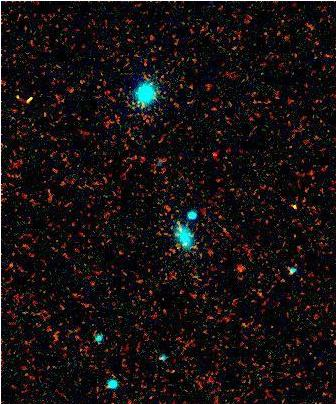star: (282, 193, 312, 223)
